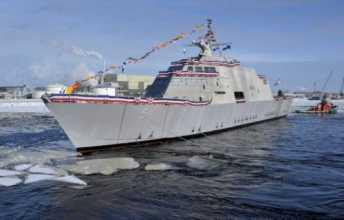warship: (33, 15, 298, 154)
